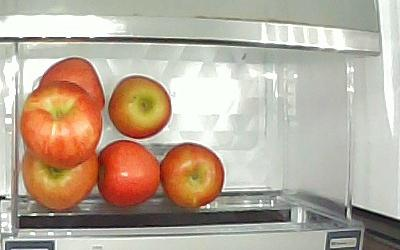apple: (22, 82, 101, 171), (23, 150, 98, 211), (98, 140, 161, 208), (108, 75, 173, 140), (161, 142, 224, 209), (40, 58, 105, 109)
